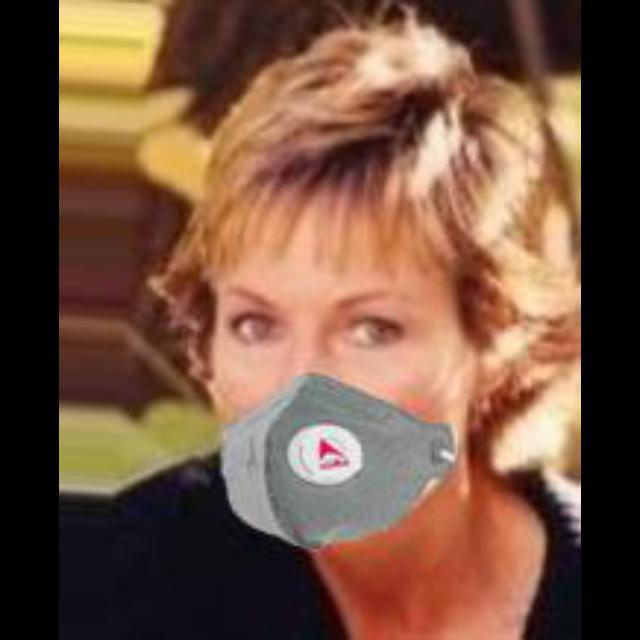suspicion: (181, 135, 501, 578)
